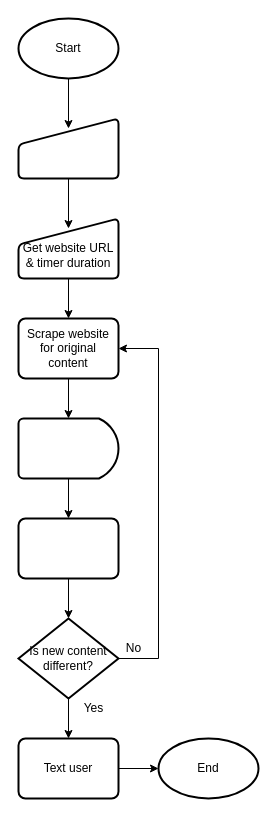
This 276x816 diagram has some shape labels left out. Here are the shapes that lost their labels. From the top down, the centre of each, then its label:
At point 68,148: "Get user Twilio details".
At point 68,448: "Wait by user delay".
At point 68,548: "Scrape website for new content".
